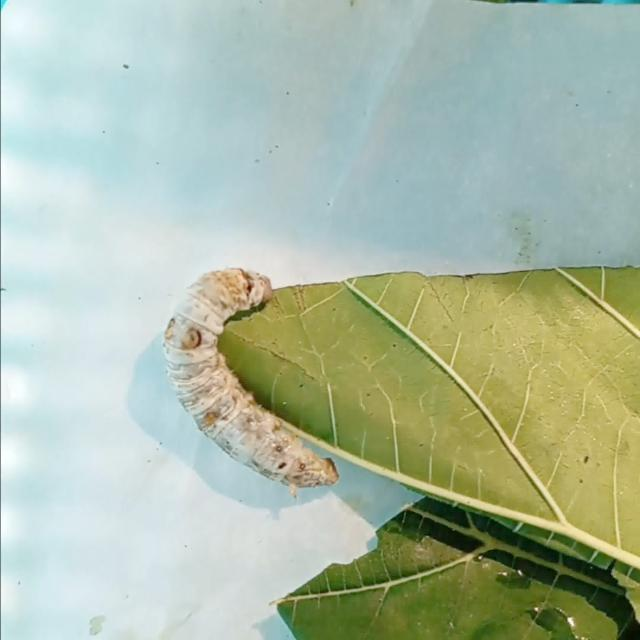Grasserie: (150, 249, 345, 501)
